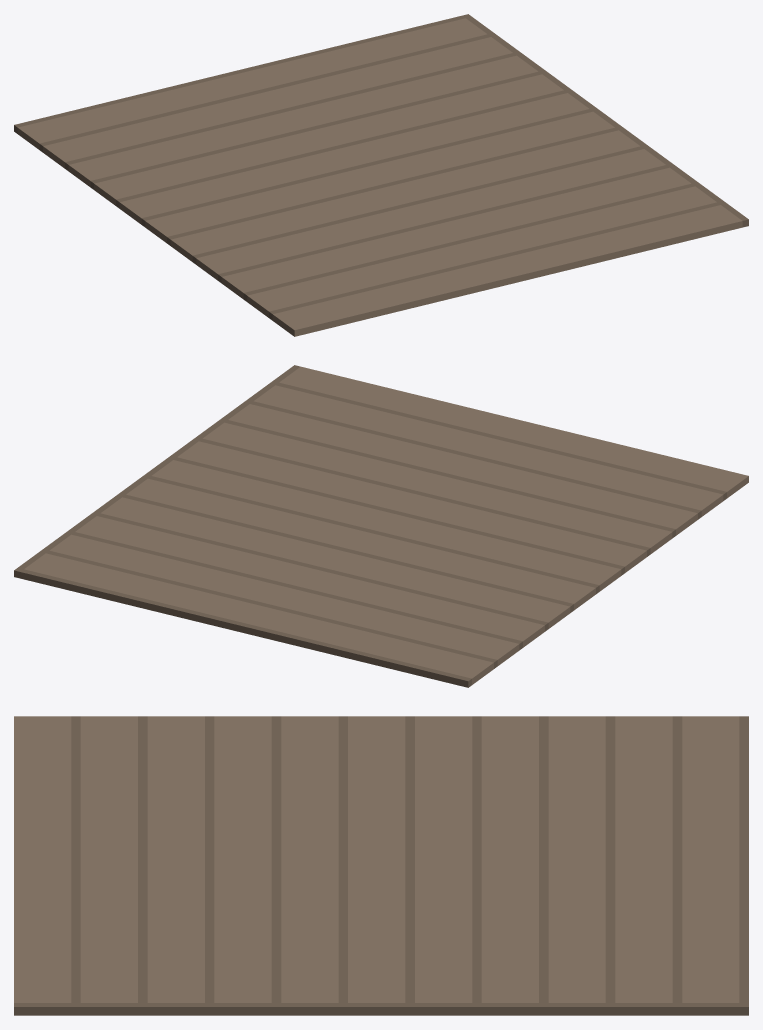
Rendered from tutorial.vox-4-floor_hall.obj.
3 views of the same model, one above another, from view 1: azimuth 30°, elevation 25°; view 2: azimuth 150°, elevation 25°; view 3: azimuth 270°, elevation 25° (orthographic). The views are drawn at different scales.
Visible parts, largest first — view 1: floor_hall; view 2: floor_hall; view 3: floor_hall.
Boxes of the visible parts, x1,y1,x2,y2 form: floor_hall: (14,14,748,336); floor_hall: (14,365,748,687); floor_hall: (14,716,748,1015).
Size of the model in its own units: 7.2 by 0.1 by 7.7.
Materials: 1 (1 with a texture image).
